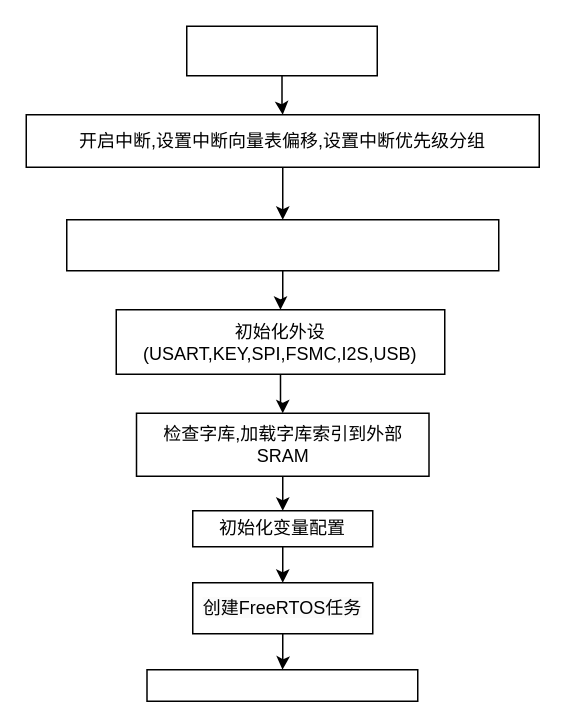
This 566x728 diagram has some shape labels left out. The centre of each missing label's shape, as x and y in pixels:
"初始化系统时钟" belongs at [282,244].
"系统初始化" belongs at [281,50].
"运行" belongs at [282,684].
